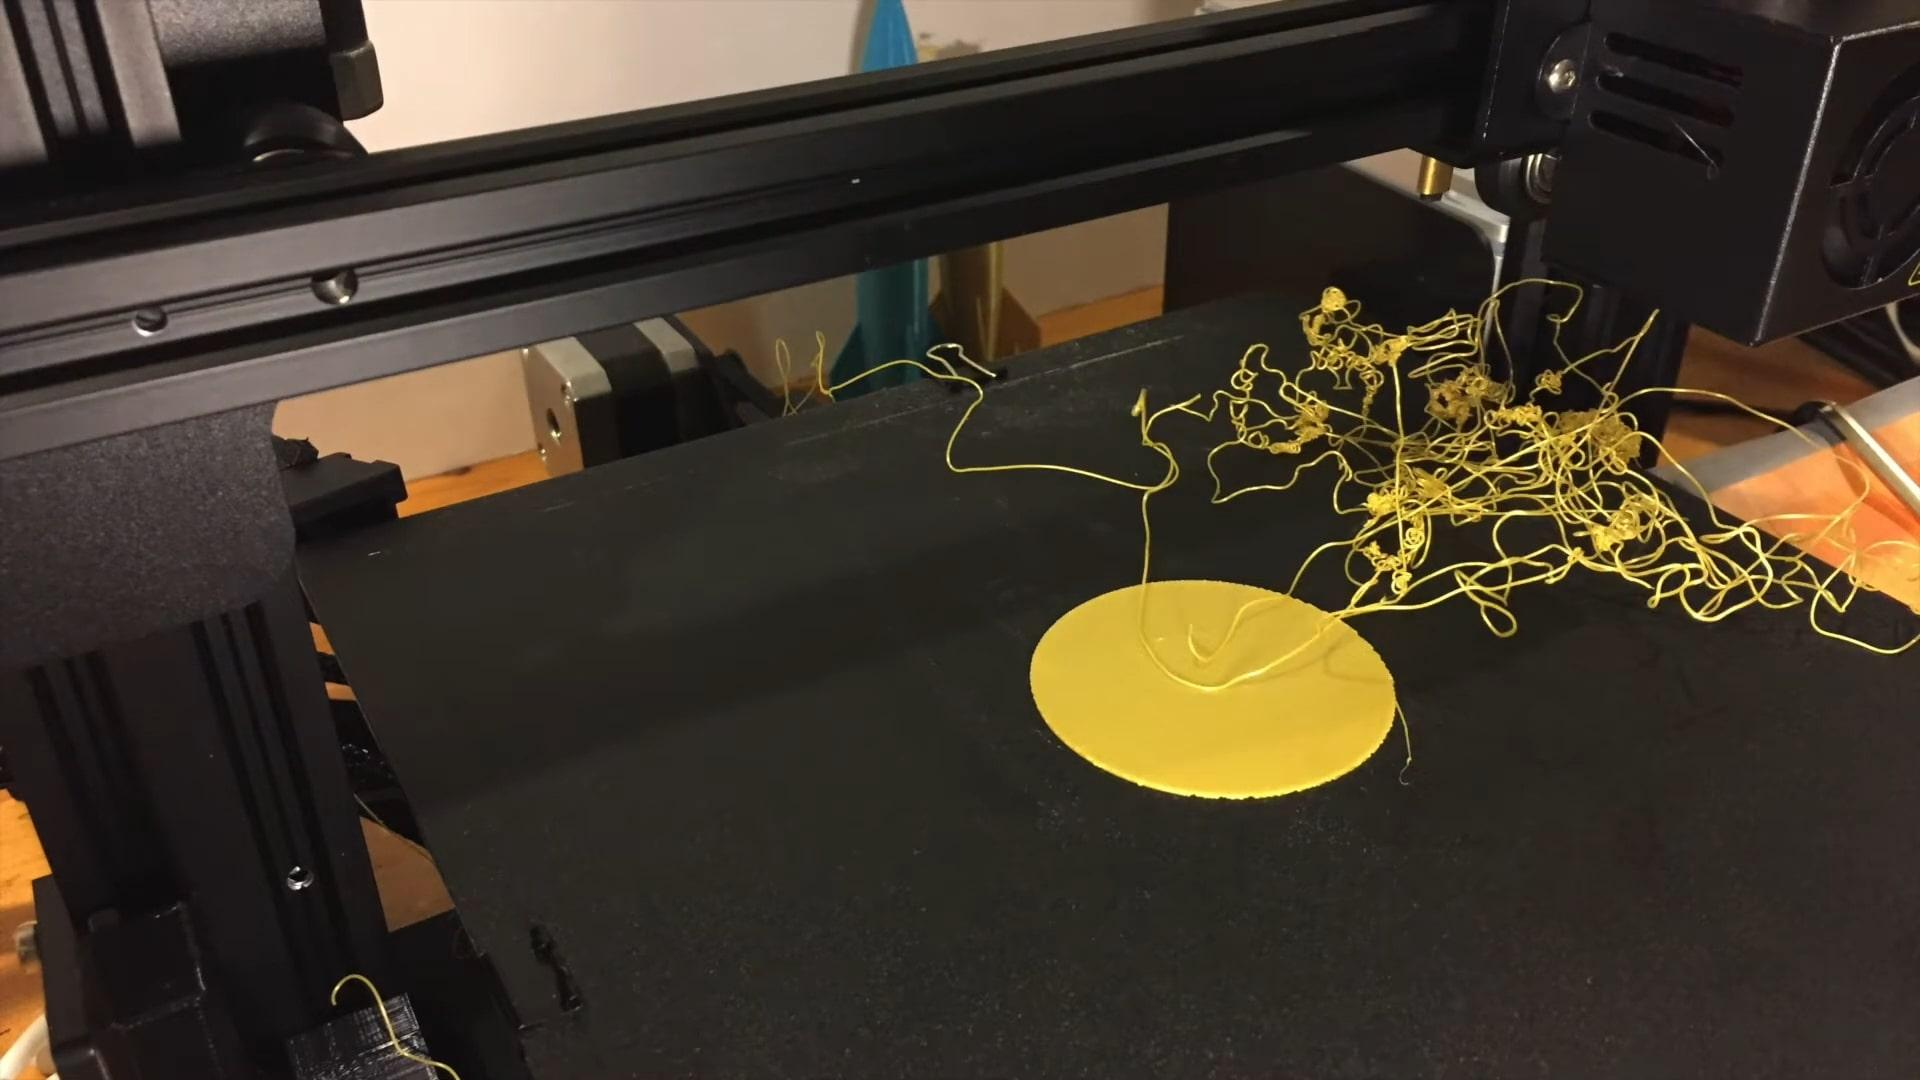Printing-Artifact: (1126, 224, 1895, 657)
